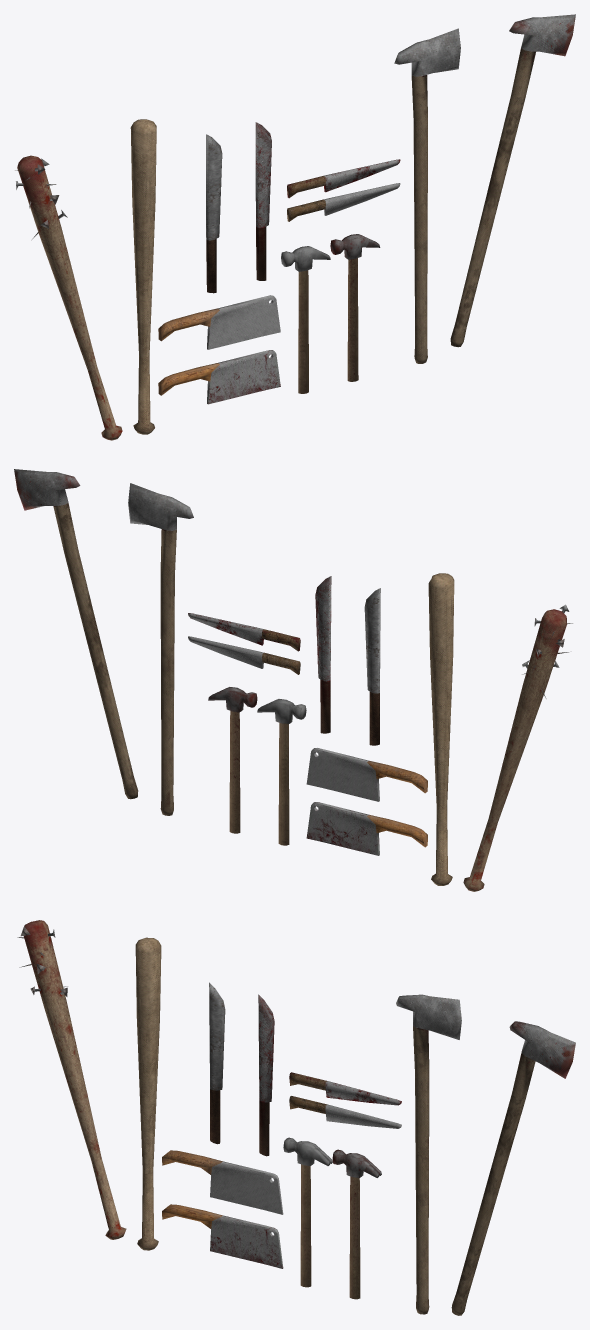
The model's file is retro__psx-like_horror_melee_weapons_pack.glb.
3 renders of one model, top to bottom at view 1: azimuth 30°, elevation 25°; view 2: azimuth 150°, elevation 25°; view 3: azimuth 330°, elevation 25°, orthographic.
Parts seen in each view (by area): view 1: axe_bloody, axe, bat, bat_Bloody, cleaver, cleaver_Bloody, machete_Bloody, hammer, hammer_Bloody, machete, kitchenKnife_Bloody, kitchenKnife; view 2: axe_bloody, axe, bat, bat_Bloody, cleaver_Bloody, cleaver, hammer, hammer_Bloody, machete, machete_Bloody, kitchenKnife, kitchenKnife_Bloody; view 3: bat_Bloody, axe, axe_bloody, bat, cleaver_Bloody, cleaver, hammer_Bloody, hammer, machete, machete_Bloody, kitchenKnife_Bloody, kitchenKnife.
Part boxes in pixels (x1,y1,x2,y2): axe_bloody: [450, 14, 575, 347]; axe: [394, 28, 460, 363]; bat: [130, 119, 156, 434]; bat_Bloody: [15, 155, 122, 440]; cleaver: [158, 295, 280, 349]; cleaver_Bloody: [158, 350, 280, 404]; machete_Bloody: [255, 122, 271, 280]; hammer: [281, 246, 330, 393]; hammer_Bloody: [330, 234, 380, 381]; machete: [206, 134, 222, 293]; kitchenKnife_Bloody: [287, 159, 400, 198]; kitchenKnife: [287, 183, 400, 221]; axe_bloody: [14, 469, 138, 799]; axe: [128, 483, 193, 815]; bat: [428, 573, 454, 885]; bat_Bloody: [463, 604, 572, 891]; cleaver_Bloody: [306, 802, 427, 855]; cleaver: [306, 748, 427, 801]; hammer: [257, 699, 306, 845]; hammer_Bloody: [208, 687, 257, 833]; machete: [364, 588, 380, 745]; machete_Bloody: [315, 576, 331, 733]; kitchenKnife: [188, 636, 300, 674]; kitchenKnife_Bloody: [188, 613, 300, 651]; bat_Bloody: [17, 920, 126, 1239]; axe: [396, 994, 461, 1314]; axe_bloody: [451, 1021, 575, 1315]; bat: [135, 937, 161, 1250]; cleaver_Bloody: [162, 1204, 283, 1268]; cleaver: [162, 1150, 283, 1214]; hammer_Bloody: [332, 1149, 381, 1299]; hammer: [283, 1137, 332, 1287]; machete: [209, 982, 225, 1144]; machete_Bloody: [258, 994, 274, 1156]; kitchenKnife_Bloody: [289, 1072, 401, 1105]; kitchenKnife: [289, 1096, 401, 1128].
Bounding box in the file's own units: 12.1 × 6.76 × 0.8194.
Materials: 6 (6 with a texture image).
